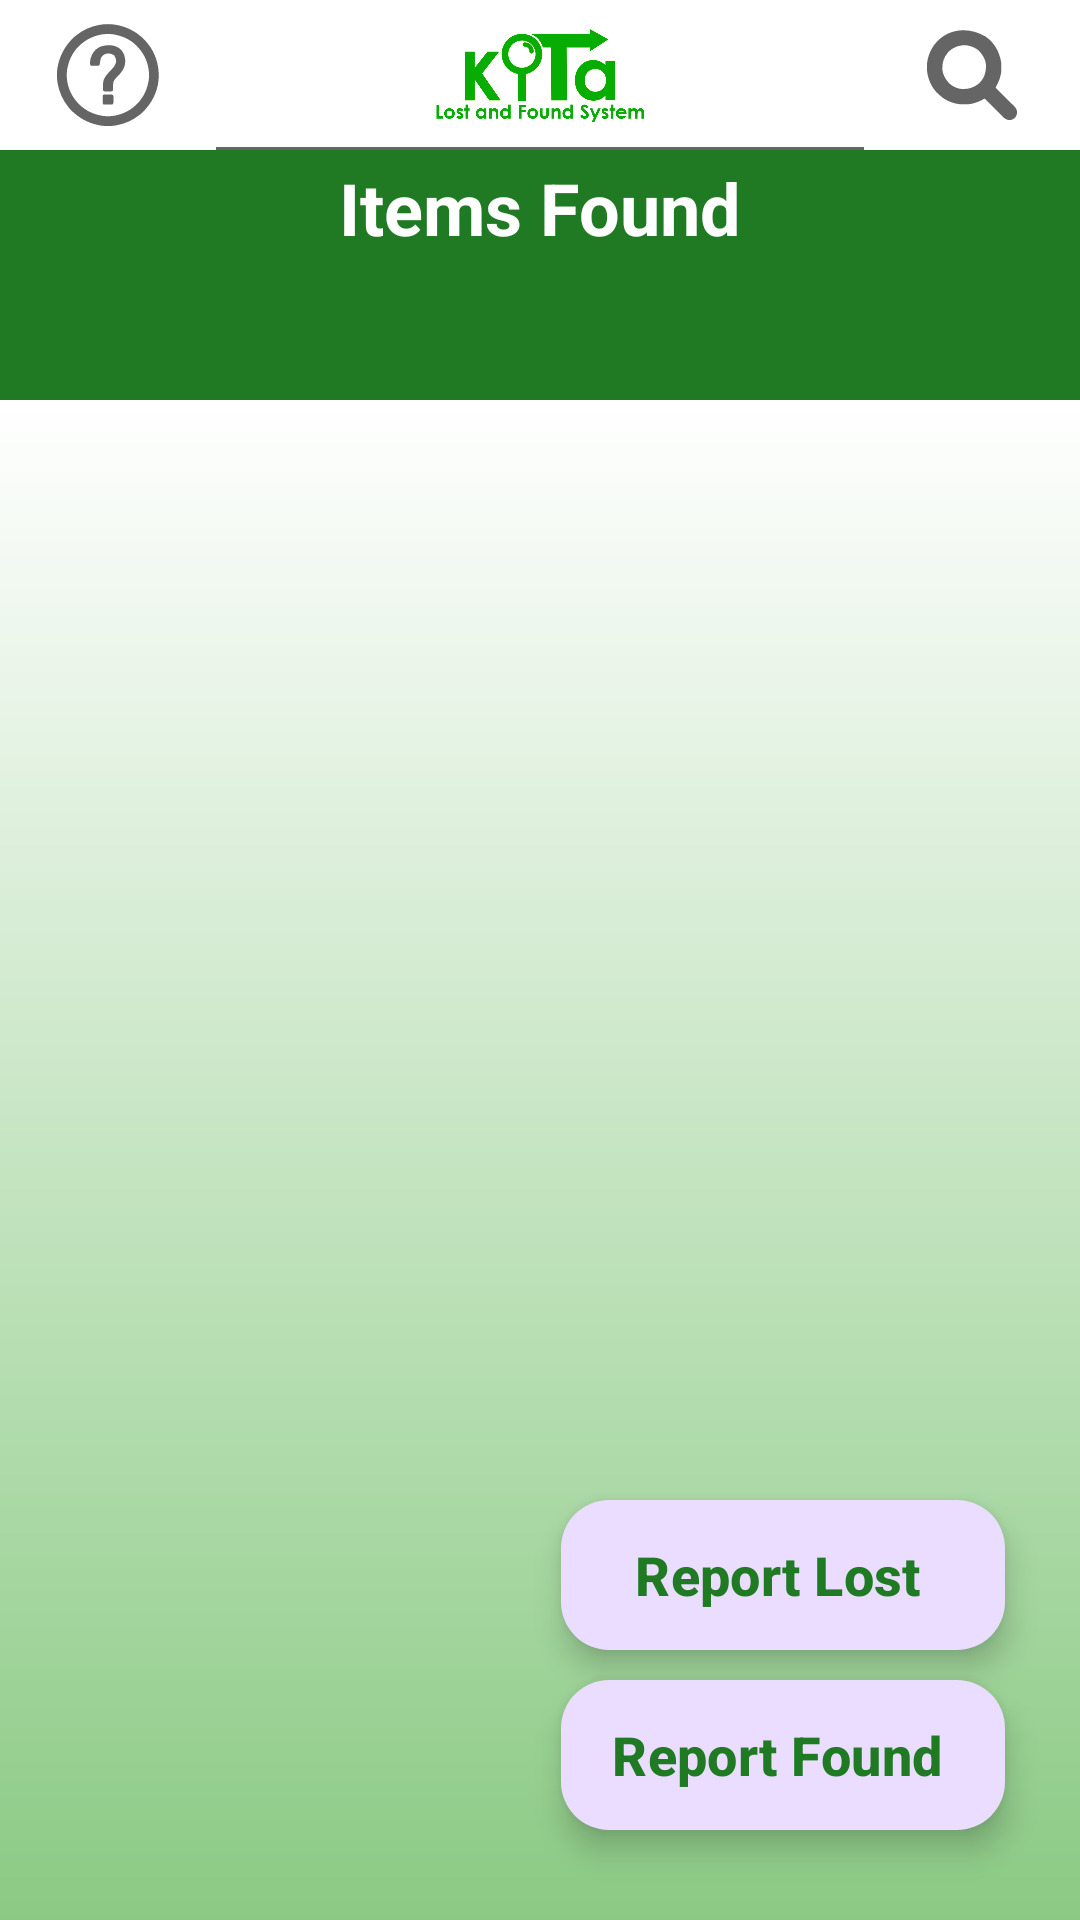

Icons on this 1080x1920 Android screen, each with its box as box(x1, y1, x2, y2):
guide: box(57, 24, 159, 126)
search: box(927, 30, 1017, 120)
